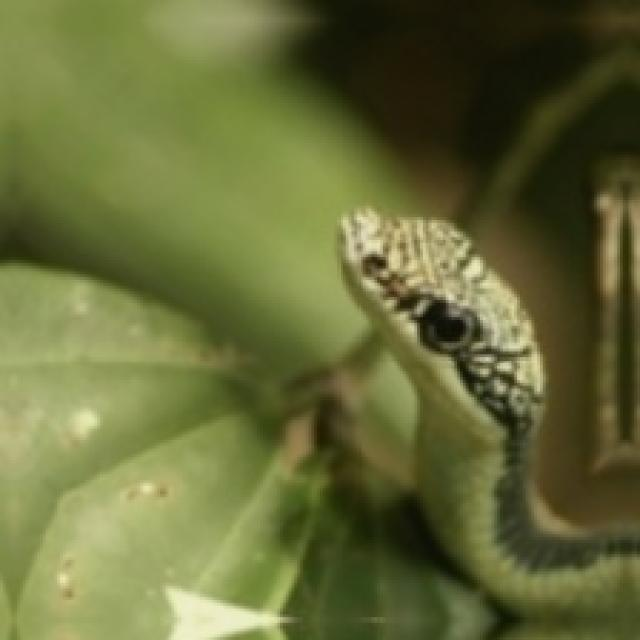paradise tree snake: (340, 209, 637, 637)
